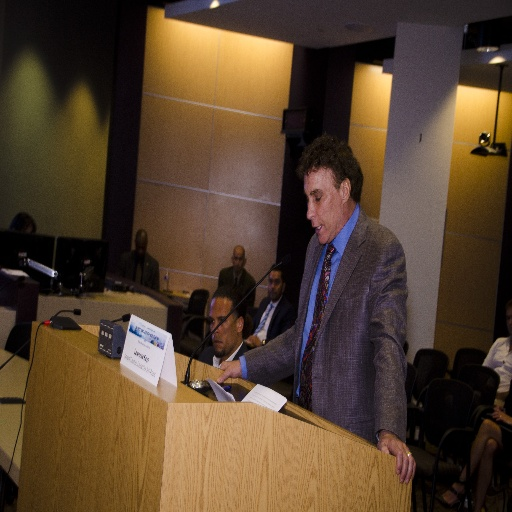hand: (379, 425, 414, 493), (216, 359, 240, 386), (491, 408, 511, 425), (245, 334, 254, 349), (249, 336, 262, 346)
